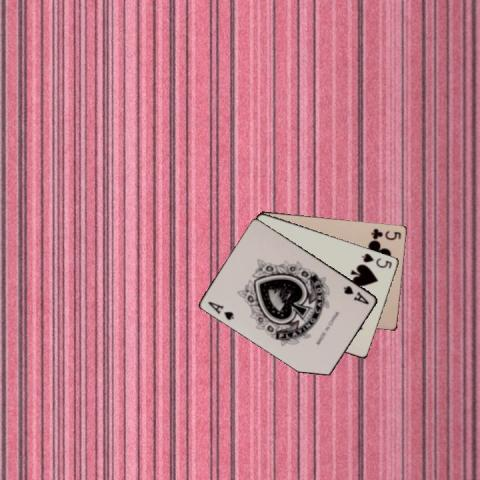5c: (369, 225, 402, 241)
5s: (359, 250, 393, 269)
As: (205, 298, 236, 321), (340, 283, 370, 306)
